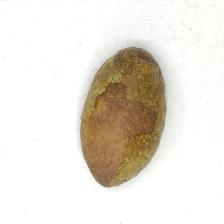NG: (83, 43, 166, 126), (120, 127, 162, 184)
